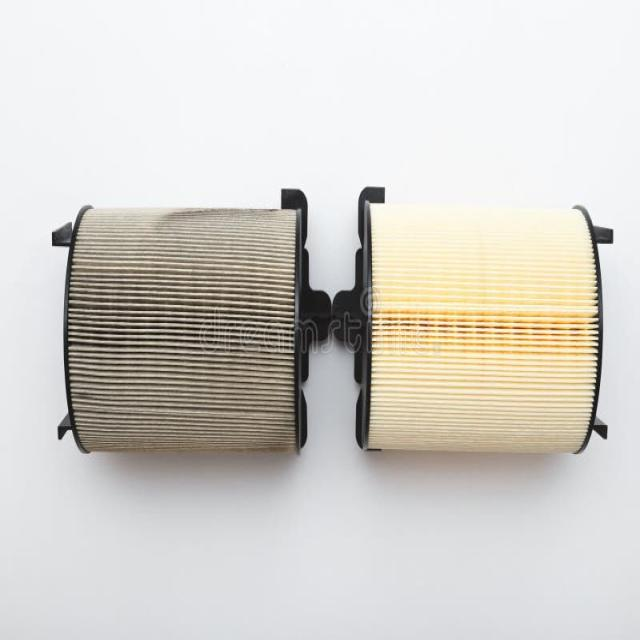oil_filter: (36, 187, 331, 457), (339, 175, 620, 455)
